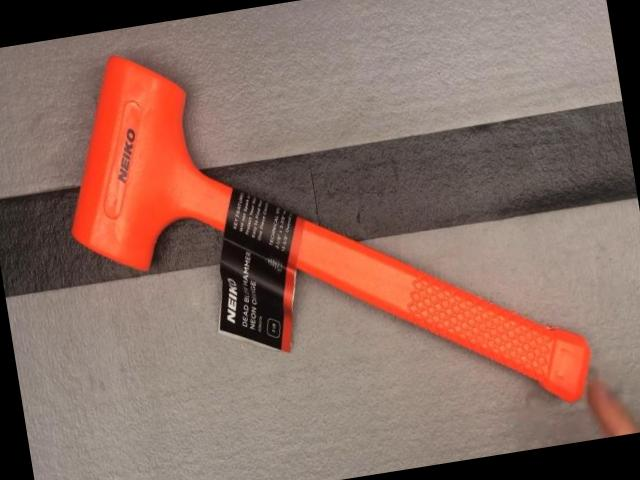hammer: (42, 0, 601, 479)
